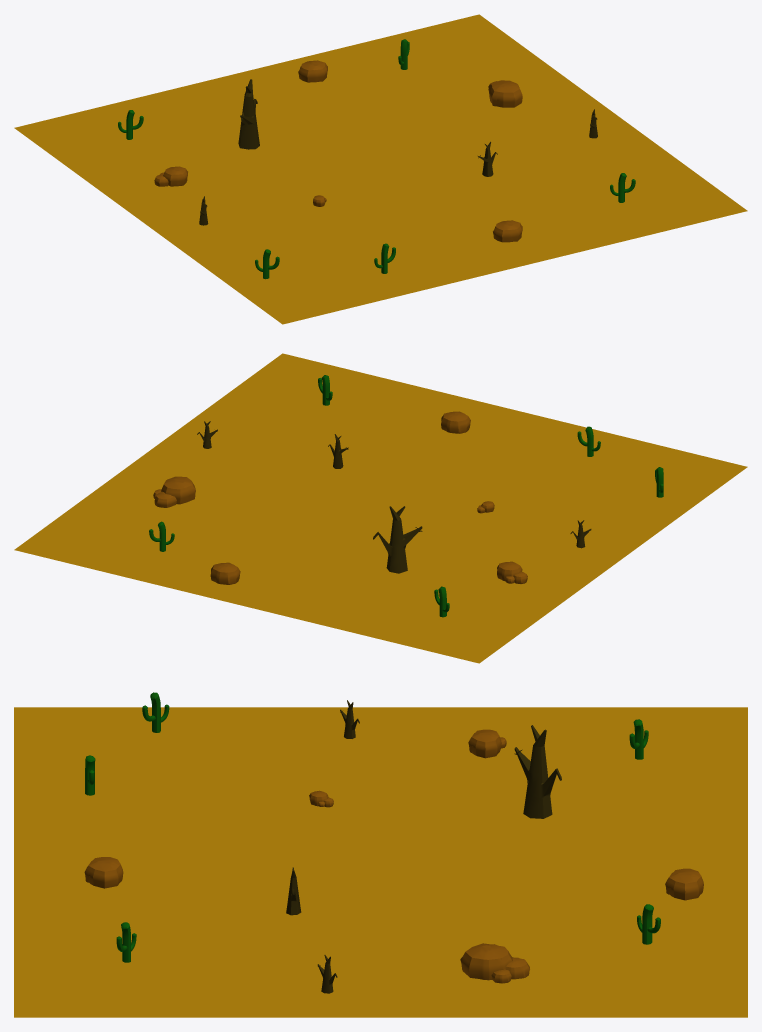
File: Desert.fbx
3 renders of one model, top to bottom at view 1: azimuth 30°, elevation 25°; view 2: azimuth 150°, elevation 25°; view 3: azimuth 270°, elevation 25°, orthographic. The views are drawn at different scales.
Visible parts, largest first — view 1: polySurface68; view 2: polySurface68; view 3: polySurface68.
Part boxes in pixels (left/top/right/bottom): polySurface68: left=14, top=14, right=747, bottom=324; polySurface68: left=14, top=353, right=747, bottom=663; polySurface68: left=14, top=692, right=747, bottom=1017.
Bounding box in the file's own units: 72.4 × 10.83 × 72.4.
